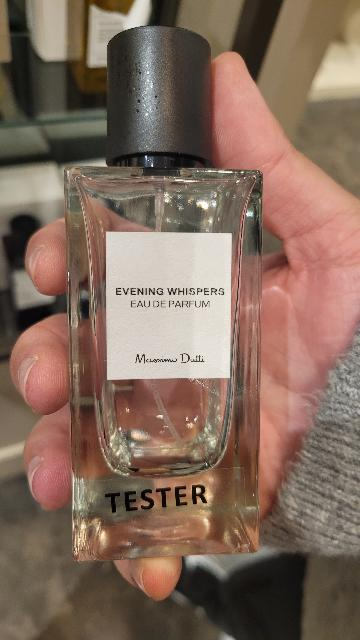Cam: (56, 160, 276, 565)
Plastik: (98, 15, 221, 166)
